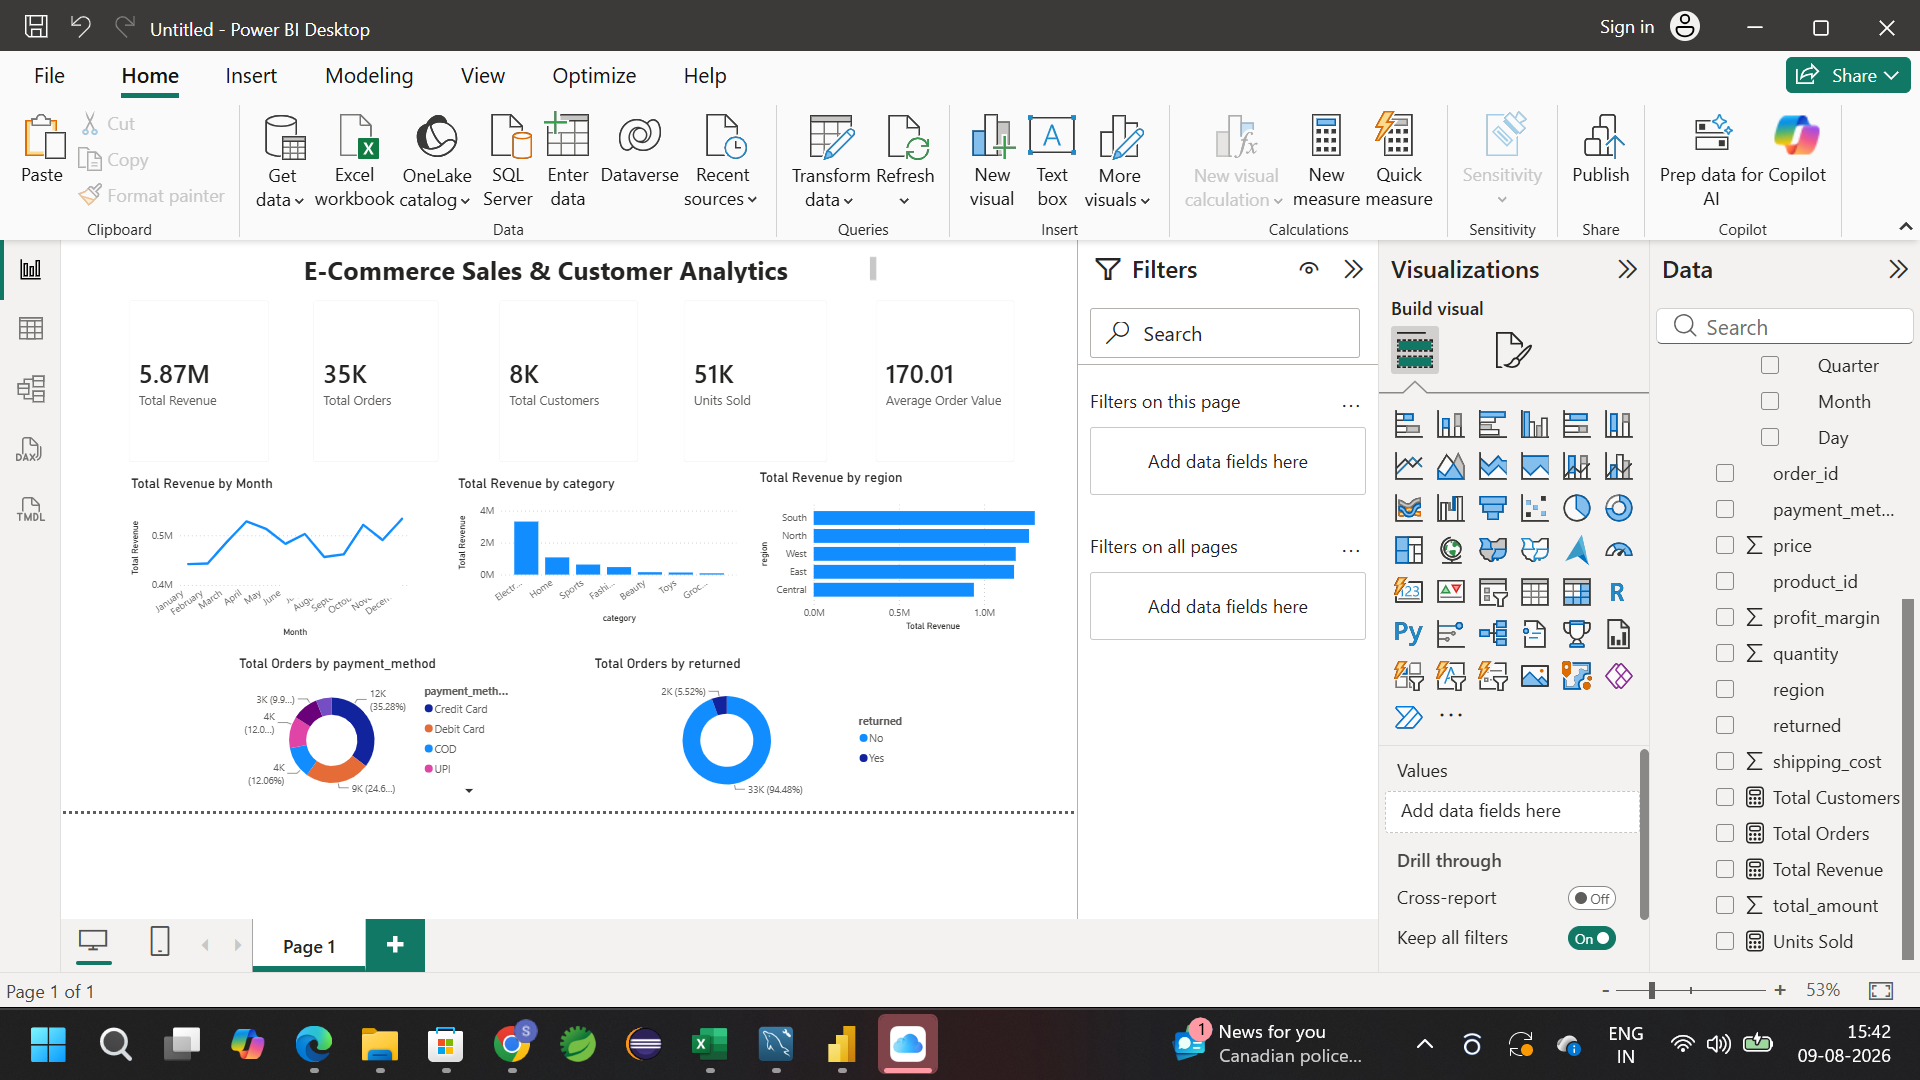

The page's visual inventory and layout, read from the dashboard file:
{"tool":"powerbi","page":{"name":"Executive Overview","canvas":[1280,720],"ordinal":0},"visuals":[{"type":"cardVisual","fields":{"Data":["ecommerce_sales_34500.Average Order Value"]},"box":[1009.1,58.6,209.8,238.1],"z":0},{"type":"cardVisual","fields":{"Data":["ecommerce_sales_34500.Total Revenue"]},"box":[68,58.6,211.7,238.1],"z":1},{"type":"cardVisual","fields":{"Data":["ecommerce_sales_34500.Total Customers"]},"box":[534.8,58.6,209.8,238.1],"z":2},{"type":"cardVisual","fields":{"Data":["ecommerce_sales_34500.Units Sold"]},"box":[767.2,58.6,215.4,238.1],"z":3},{"type":"cardVisual","fields":{"Data":["ecommerce_sales_34500.Total Orders"]},"box":[300.5,58.6,192.8,238.1],"z":4},{"type":"lineChart","fields":{"Category":["ecommerce_sales_34500.order_date.Variation.Date Hierarchy.Month"],"Y":["ecommerce_sales_34500.Total Revenue"]},"box":[83.2,296.7,360.9,207.9],"z":5},{"type":"clusteredColumnChart","fields":{"Category":["ecommerce_sales_34500.category"],"Y":["ecommerce_sales_34500.Total Revenue"]},"box":[495.1,296.7,360.9,190.9],"z":6},{"type":"clusteredBarChart","fields":{"Category":["ecommerce_sales_34500.region"],"Y":["ecommerce_sales_34500.Total Revenue"]},"box":[875,289.1,387.4,207.9],"z":7},{"type":"donutChart","fields":{"Category":["ecommerce_sales_34500.payment_method"],"Y":["ecommerce_sales_34500.Total Orders"]},"box":[219.2,523.5,355.3,183.3],"z":8},{"type":"donutChart","fields":{"Category":["ecommerce_sales_34500.returned"],"Y":["ecommerce_sales_34500.Total Orders"]},"box":[667.1,523.5,415.8,183.3],"z":9},{"type":"textbox","box":[69.9,523.5,149.3,32.1],"z":10},{"type":"textbox","box":[279.7,415.8,149.3,35.9],"z":11},{"type":"textbox","box":[69,555,150,151],"z":12},{"type":"textbox","box":[300.5,0,731.3,58.6],"z":13}]}

Visuals, with their boxes on the page's 1280x720 design canvas (x1, y1, x2, y2). These are canvas units, not pixel positions in the 1920x1080 screenshot, which may show the page scaled, cropped or inside an application window:
cardVisual - ecommerce_sales_34500.Average Order Value: (1009,59,1219,297)
cardVisual - ecommerce_sales_34500.Total Revenue: (68,59,280,297)
cardVisual - ecommerce_sales_34500.Total Customers: (535,59,745,297)
cardVisual - ecommerce_sales_34500.Units Sold: (767,59,983,297)
cardVisual - ecommerce_sales_34500.Total Orders: (300,59,493,297)
lineChart - ecommerce_sales_34500.order_date.Variation.Date Hierarchy.Month x ecommerce_sales_34500.Total Revenue: (83,297,444,505)
clusteredColumnChart - ecommerce_sales_34500.category x ecommerce_sales_34500.Total Revenue: (495,297,856,488)
clusteredBarChart - ecommerce_sales_34500.region x ecommerce_sales_34500.Total Revenue: (875,289,1262,497)
donutChart - ecommerce_sales_34500.payment_method x ecommerce_sales_34500.Total Orders: (219,524,574,707)
donutChart - ecommerce_sales_34500.returned x ecommerce_sales_34500.Total Orders: (667,524,1083,707)
textbox: (70,524,219,556)
textbox: (280,416,429,452)
textbox: (69,555,219,706)
textbox: (300,0,1032,59)
